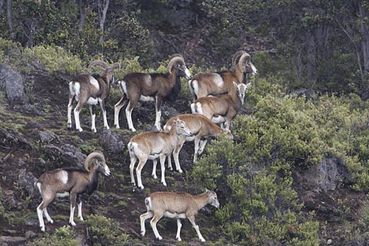sheep: (113, 53, 194, 131), (34, 150, 111, 231), (128, 119, 191, 190), (190, 51, 260, 113), (137, 188, 221, 238), (67, 59, 121, 132), (164, 112, 234, 166), (191, 81, 252, 142)
